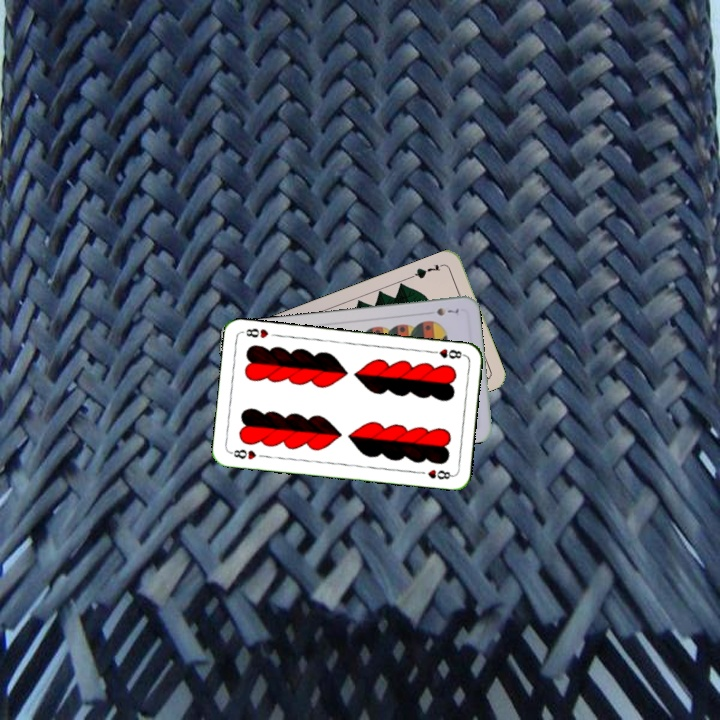G7: (408, 260, 447, 281)
H8: (426, 345, 467, 361), (227, 445, 259, 462)
S7: (432, 304, 463, 318)
